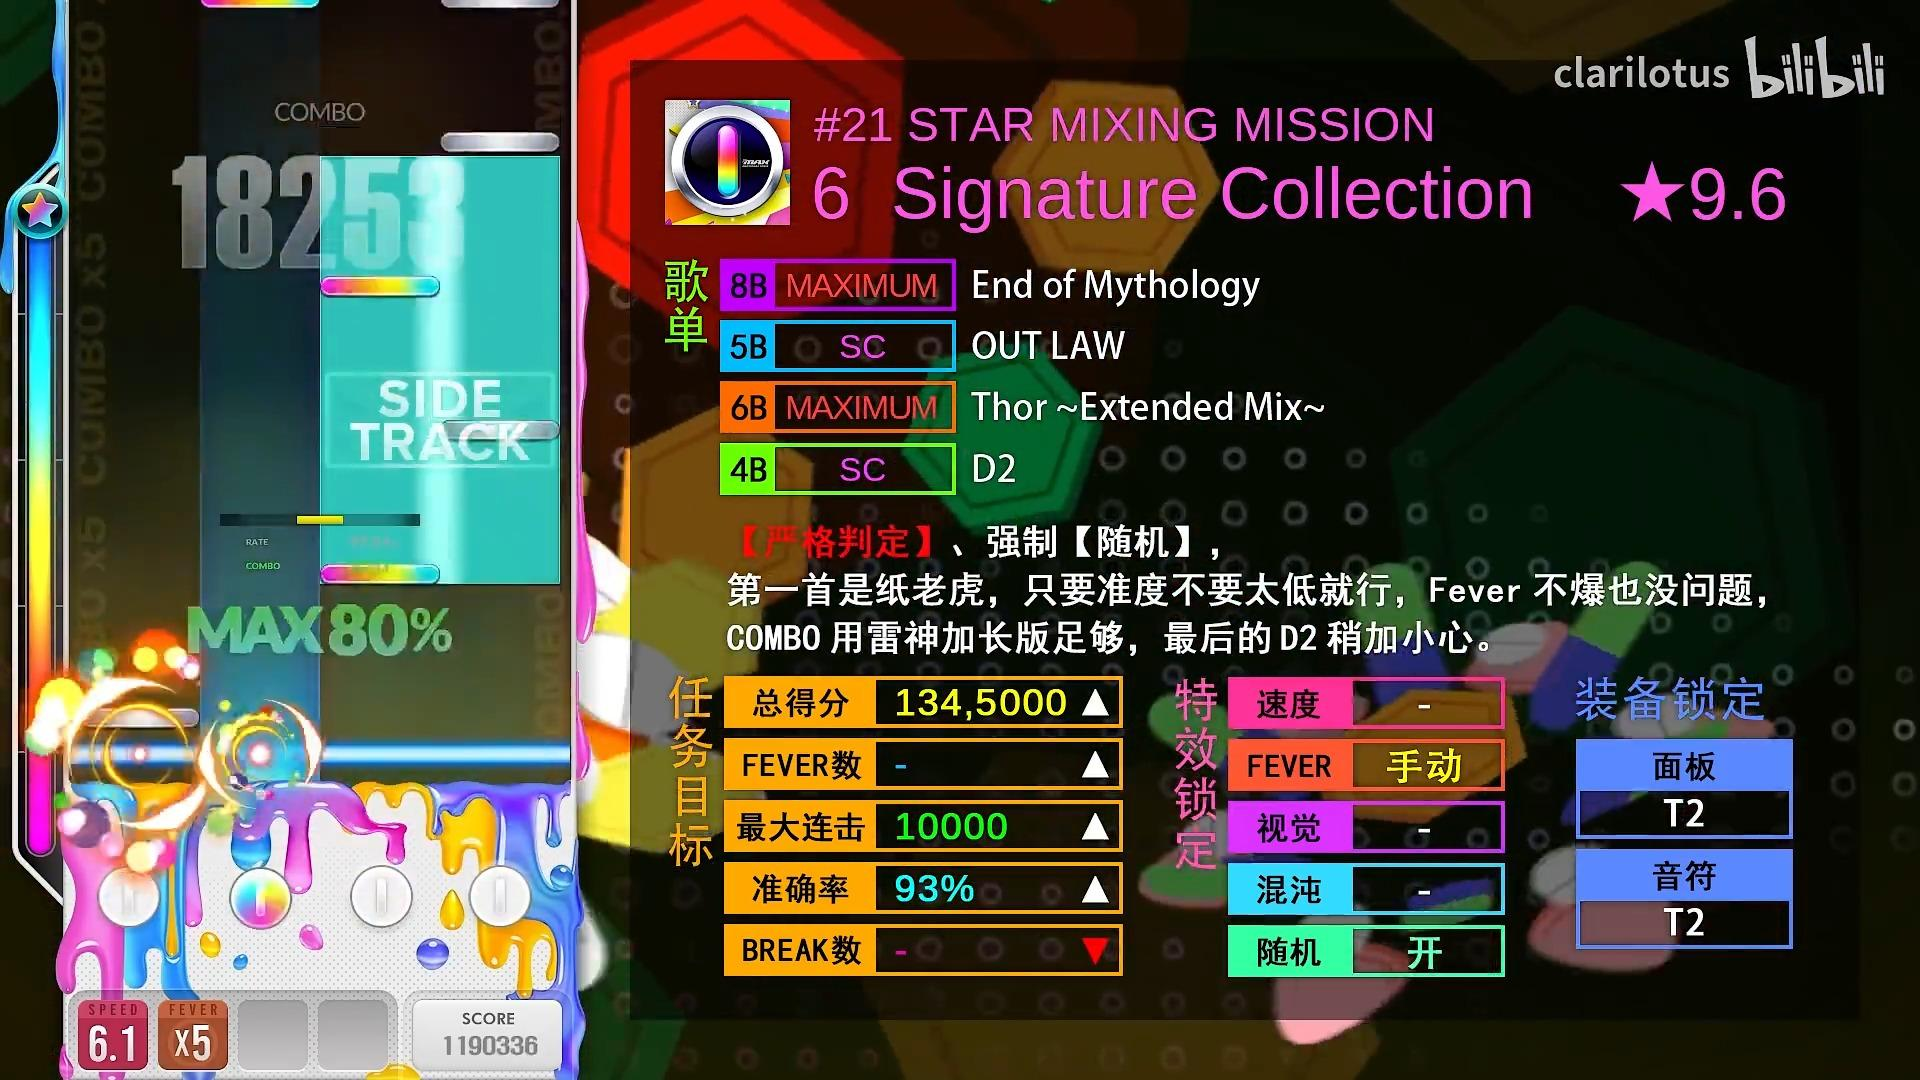note: (73, 707, 199, 728), (320, 276, 440, 298), (442, 131, 559, 153), (439, 420, 560, 441), (320, 563, 440, 584)
side-end: (319, 155, 560, 172)
side-start: (317, 559, 562, 584)
